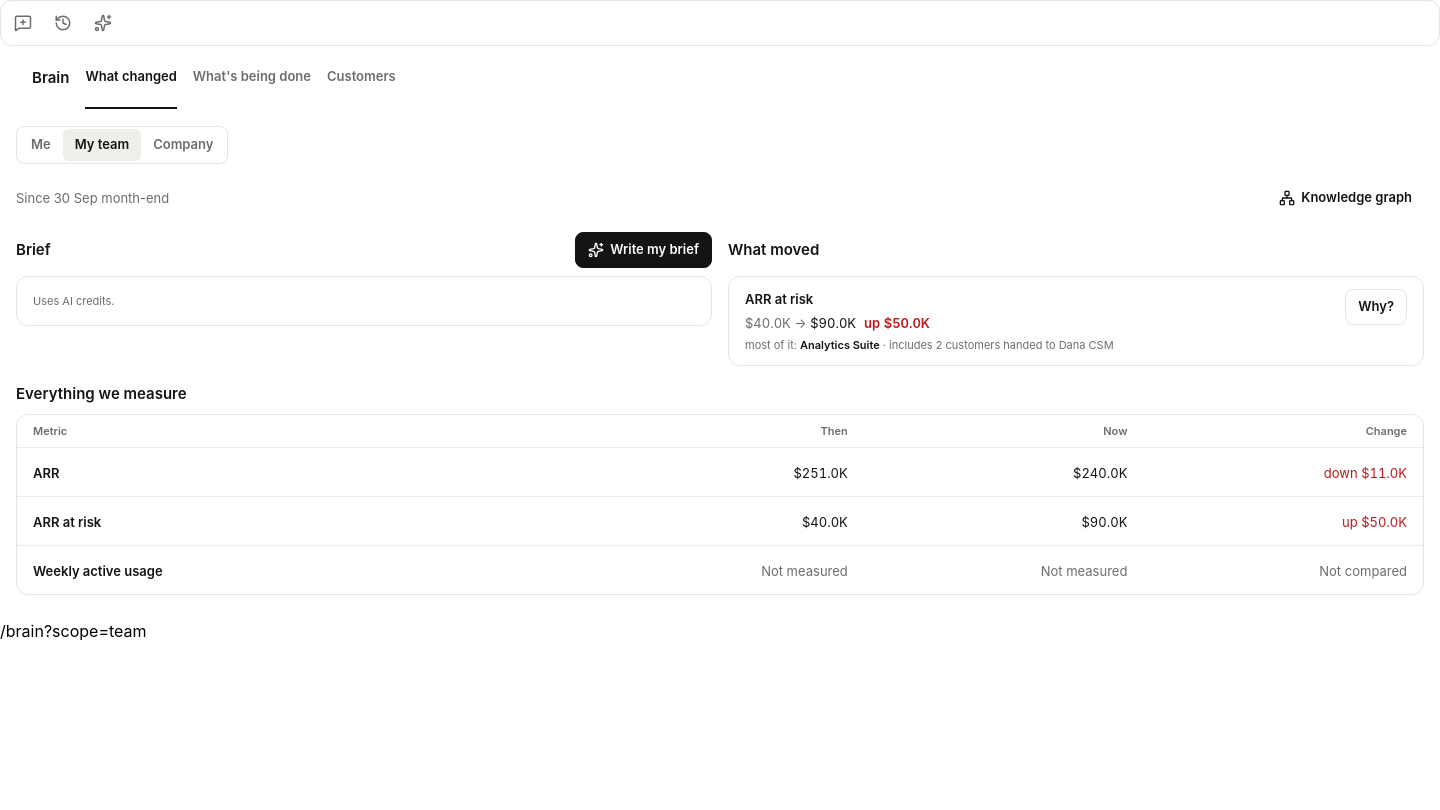
it: Ask on the Brain: the chip and the states › is a full-screen sheet at 375px, opened from the bar
Check: the text "Since 30 Sep month-end" is shown, box [16, 188, 169, 208]
Check: the element "Ask Revenact" is not shown
Click the button named "Show Copilot".
click(103, 23)  # box [85, 5, 121, 41]
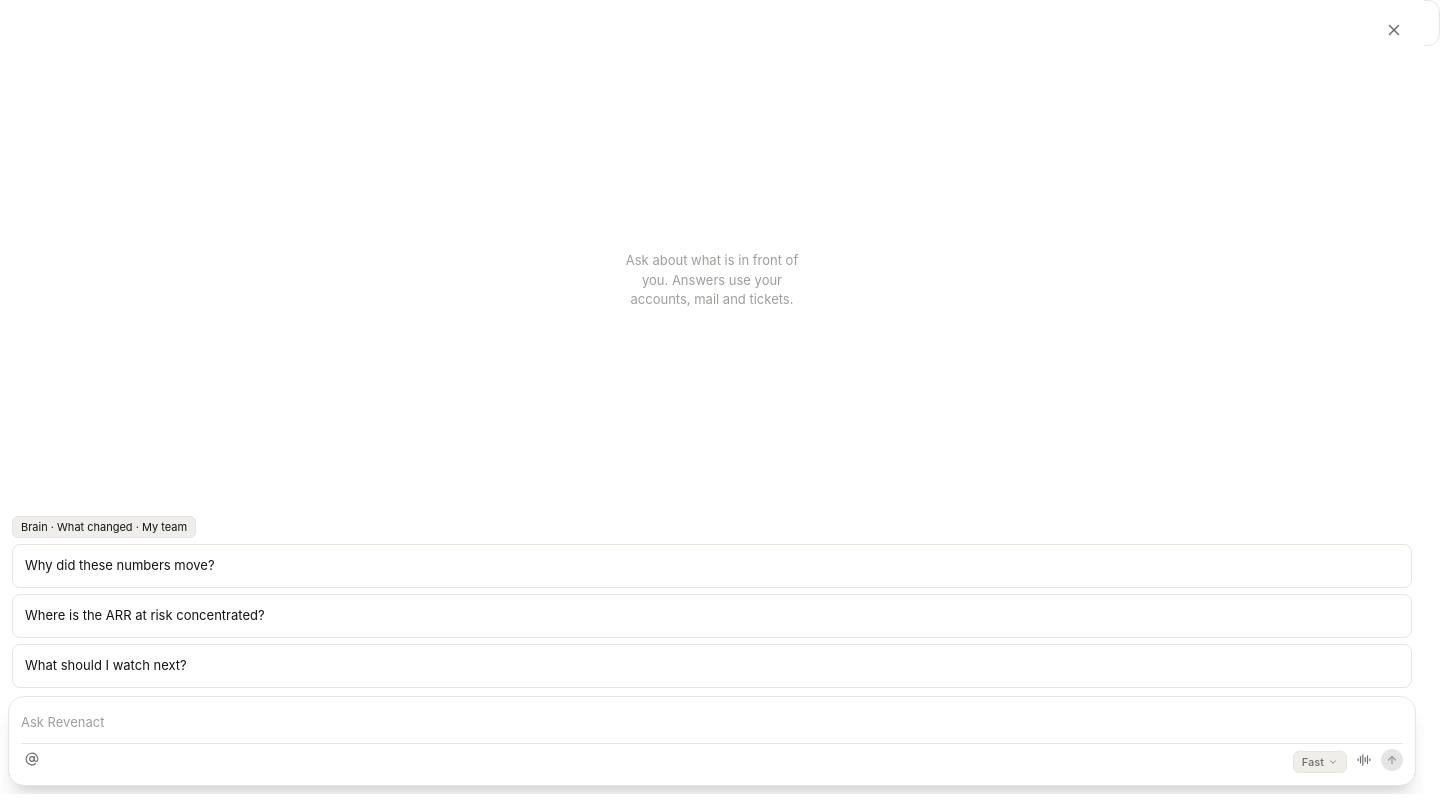
Check: the text "Brain · What changed · My team" is shown, box [12, 516, 196, 538]
